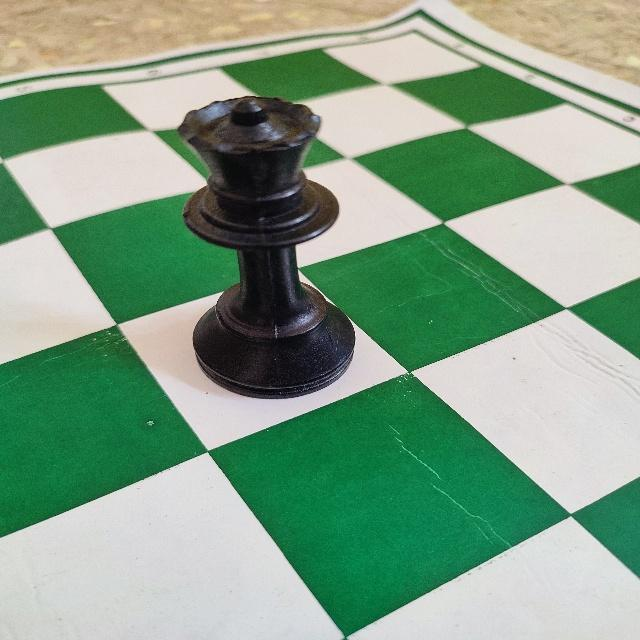Queen: (165, 93, 367, 405)
